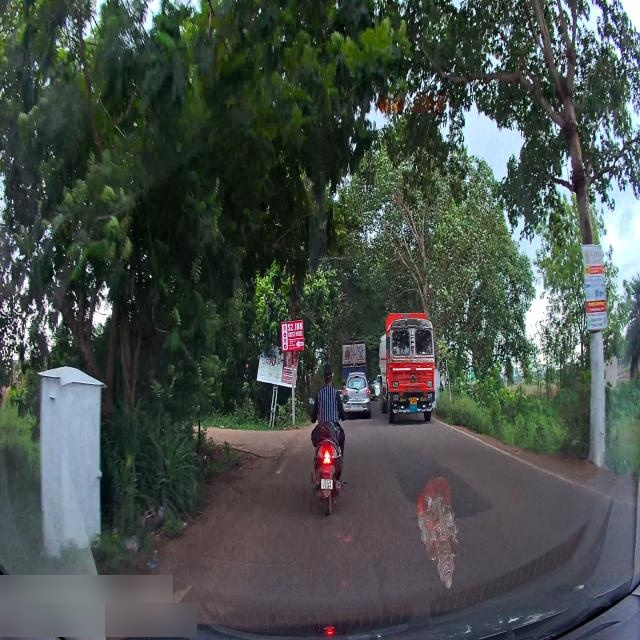pothole: (251, 448, 275, 464)
